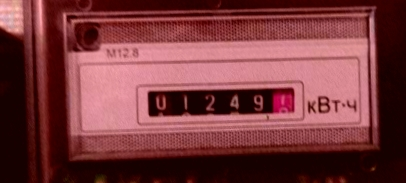0: (155, 90, 168, 110)
1: (180, 91, 190, 110)
2: (204, 91, 217, 111)
4: (229, 91, 240, 110)
7: (277, 87, 289, 106)
9: (252, 91, 265, 112)
screen: (128, 77, 304, 125)
